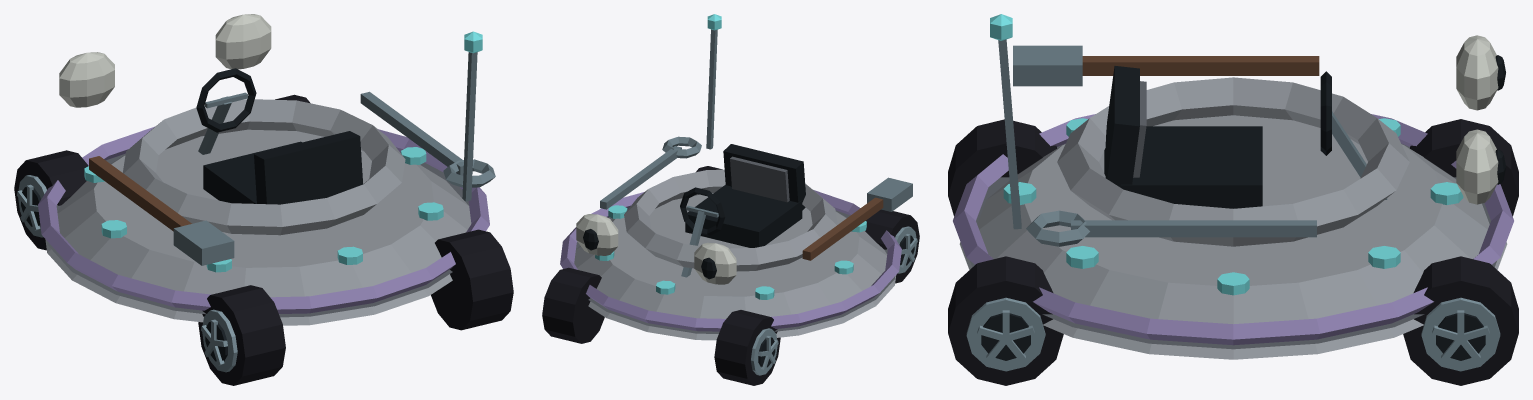
File: kart.glb
3 views of the same model, side by side, from view 1: azimuth 30°, elevation 25°; view 2: azimuth 150°, elevation 25°; view 3: azimuth 270°, elevation 25° (orthographic). The views are drawn at different scales.
Visible parts, largest first — view 1: identity-saucer-saucer-double-rim, identity-saucer-driver-cockpit, wheel-rear-left, identity-saucer-motif-tools, wheel-rear-right, identity-saucer-motif-eyes, wheel-front-left, identity-saucer-motif-antenna; view 2: identity-saucer-saucer-double-rim, identity-saucer-driver-cockpit, wheel-front-left, identity-saucer-motif-tools, wheel-front-right, identity-saucer-motif-eyes, wheel-rear-left, identity-saucer-motif-antenna; view 3: identity-saucer-saucer-double-rim, identity-saucer-driver-cockpit, identity-saucer-motif-tools, wheel-front-right, wheel-rear-right, identity-saucer-motif-eyes, wheel-rear-left, wheel-front-left, identity-saucer-motif-antenna.
Part boxes in pixels (x1,y1,x2,y2): identity-saucer-saucer-double-rim: (38,99,489,325); identity-saucer-driver-cockpit: (196,68,362,204); wheel-rear-left: (198,285,285,385); identity-saucer-motif-tools: (89,91,495,265); wheel-rear-right: (431,229,513,330); identity-saucer-motif-eyes: (59,14,271,107); wheel-front-left: (14,150,88,250); identity-saucer-motif-antenna: (462,31,482,201); identity-saucer-saucer-double-rim: (560,169,901,340); identity-saucer-driver-cockpit: (680,144,805,277); wheel-front-left: (714,310,780,385); identity-saucer-motif-tools: (600,136,912,260); wheel-front-right: (542,267,604,343); identity-saucer-motif-eyes: (576,214,736,284); wheel-rear-left: (865,209,919,283); identity-saucer-motif-antenna: (706,14,721,149); identity-saucer-saucer-double-rim: (953,77,1513,359); identity-saucer-driver-cockpit: (1104,66,1387,208); identity-saucer-motif-tools: (1013,45,1319,246); wheel-front-right: (1403,256,1518,385); wheel-rear-right: (948,256,1063,385); identity-saucer-motif-eyes: (1456,35,1505,204); wheel-rear-left: (948,119,1056,216); wheel-front-left: (1410,119,1518,216); identity-saucer-motif-antenna: (990,14,1021,229).
Size of the model in its own units: 2.42 by 1.72 by 2.46.
